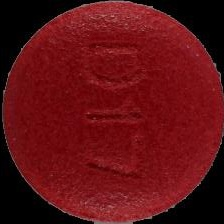0378-4017: (0, 0, 224, 224)
